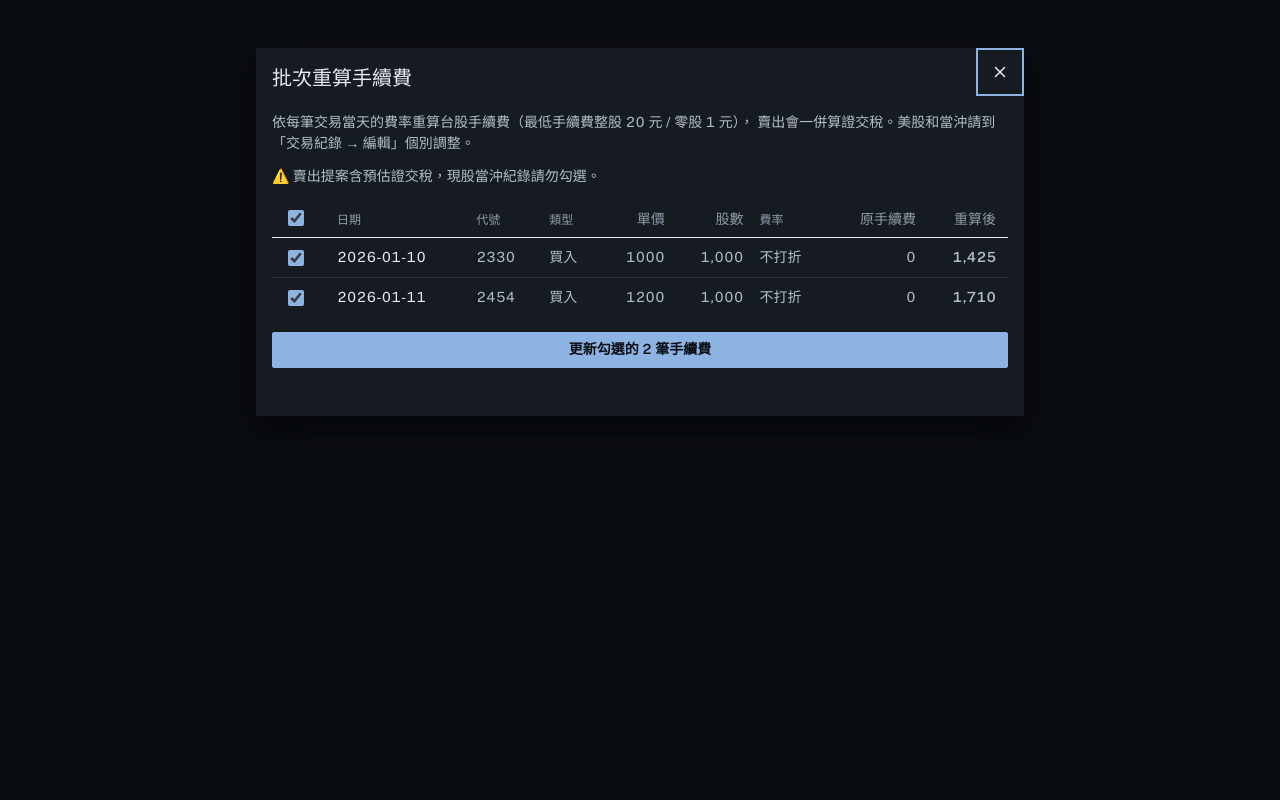
Test case: RecalcFeesModal (批次重算手續費) › 批次失敗時不關閉視窗，並說明沒有任何一筆被更新
Click the button "更新勾選的 2 筆手續費": (640, 350) [272, 332, 1008, 368]
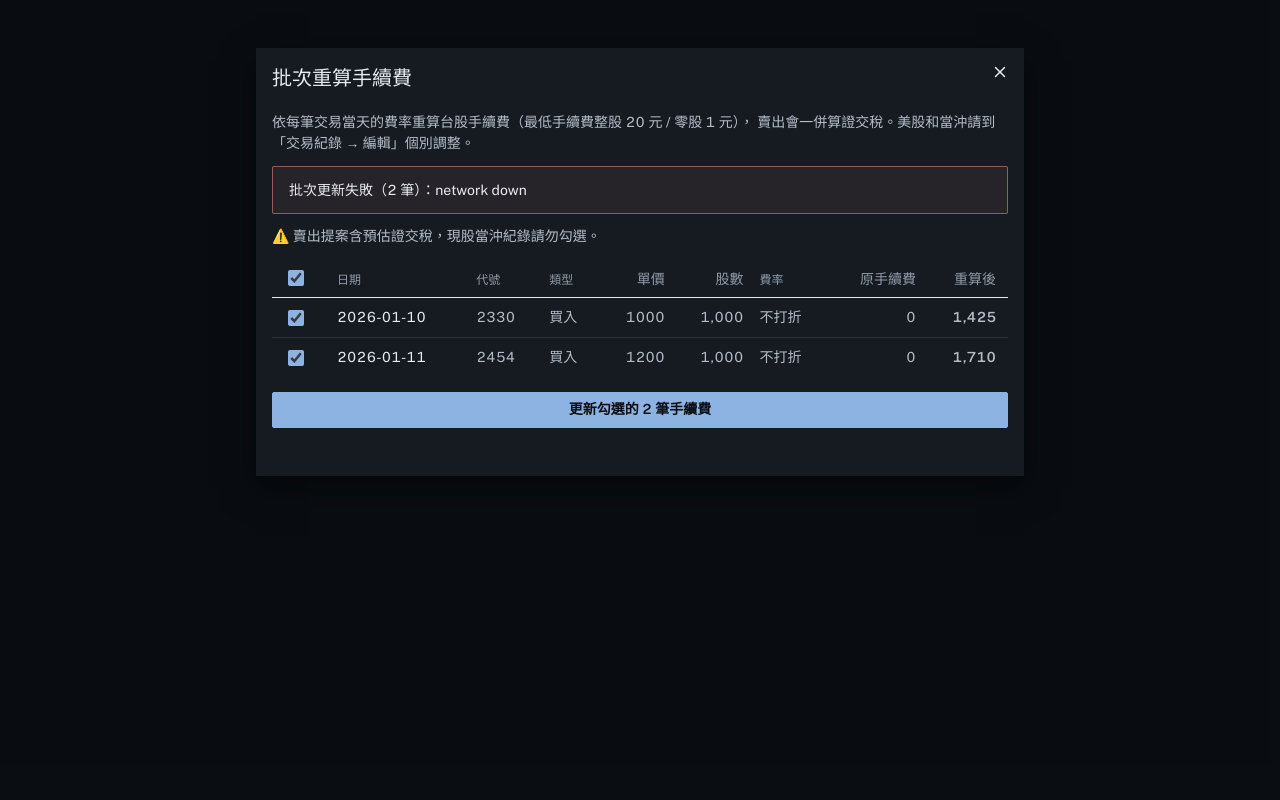
Now the text "批次更新失敗（2 筆）：network down" is shown, box [272, 166, 1008, 214]
